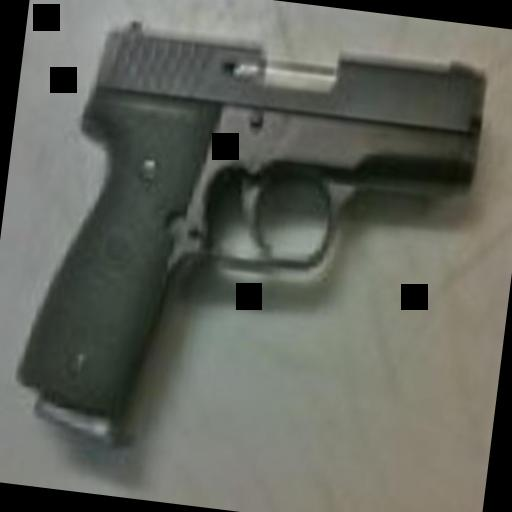Handgun: (21, 4, 489, 475)
